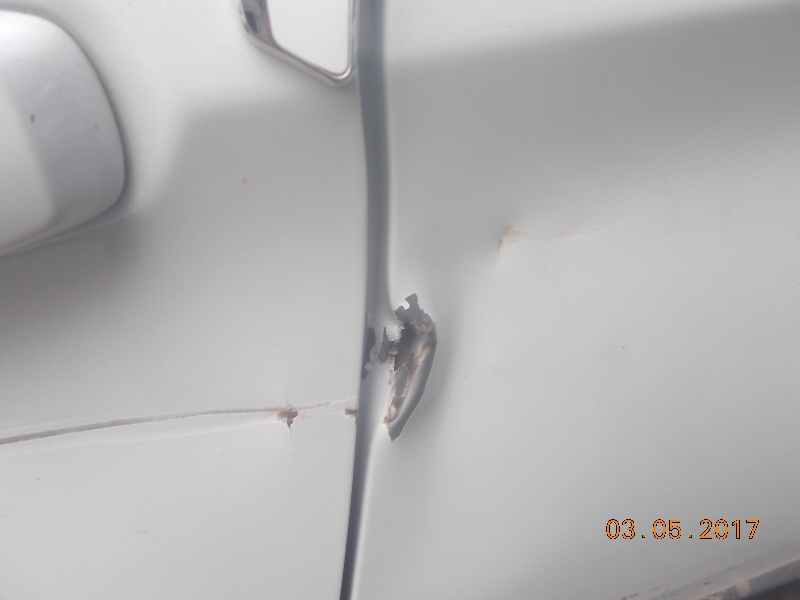Tear: (390, 298, 429, 406)
